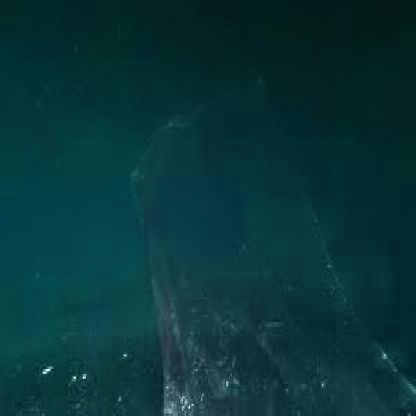pbag: (126, 64, 416, 416)
